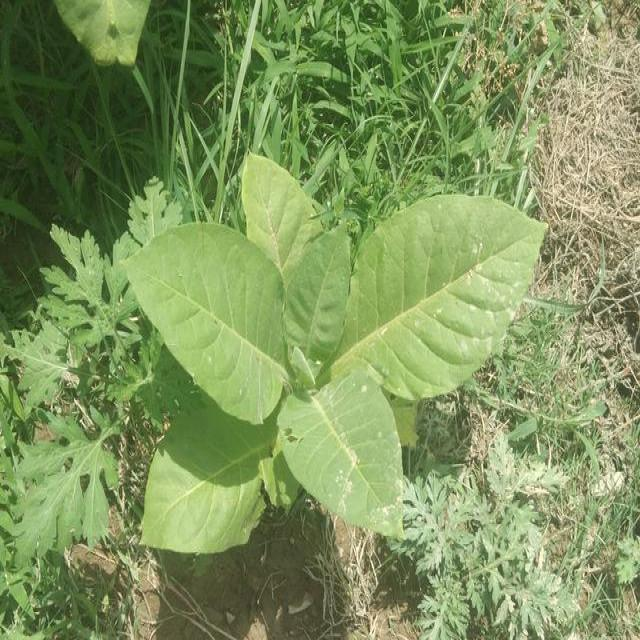crop: (124, 148, 552, 558)
